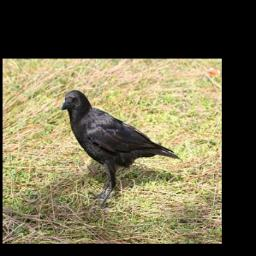Crow: (63, 89, 183, 210)
